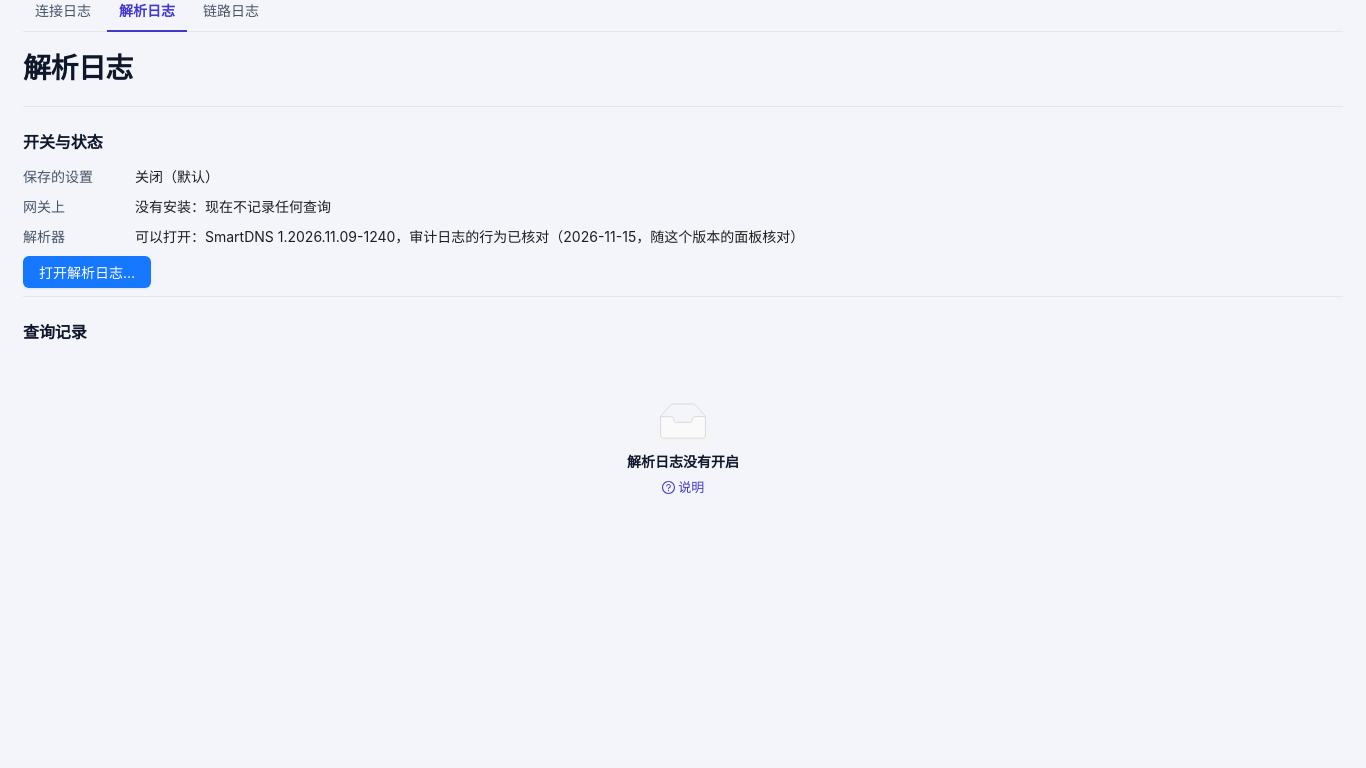
DNS query log page › not enabled: says so, reads no journal, and enabling needs the acknowledgement, then points to the deploy page
Expected: the element with test id "dns-log-empty" shows "解析日志没有开启", [627, 453, 739, 470]
Click the button "打开解析日志…": (87, 272) [23, 256, 151, 288]
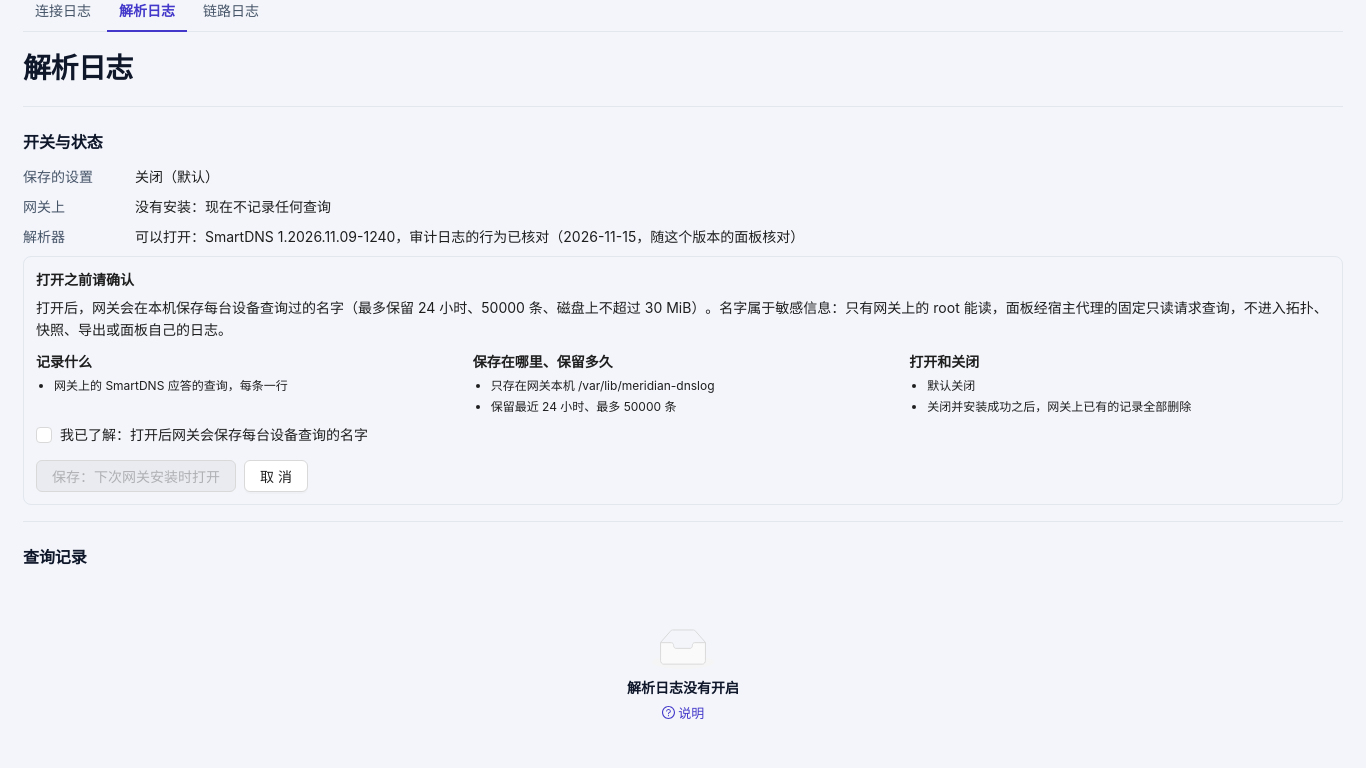
Now the element with test id "dns-log-enable-confirm" shows "网关会在本机保存每台设备查询过的名字（最多保留 24 小时、50000 条、磁盘上不超过 30 MiB）", box [23, 256, 1343, 506]
Now the element with test id "dns-log-enable-confirm" shows "只存在网关本机 /var/lib/meridian-dnslog", box [491, 378, 715, 393]
Now the element with test id "dns-log-enable-confirm" shows "关闭并安装成功之后，网关上已有的记录全部删除", box [927, 399, 1191, 414]
Click the checkbox labelled "我已了解：打开后网关会保存每台设备查询的名字": (202, 435) [36, 426, 368, 444]
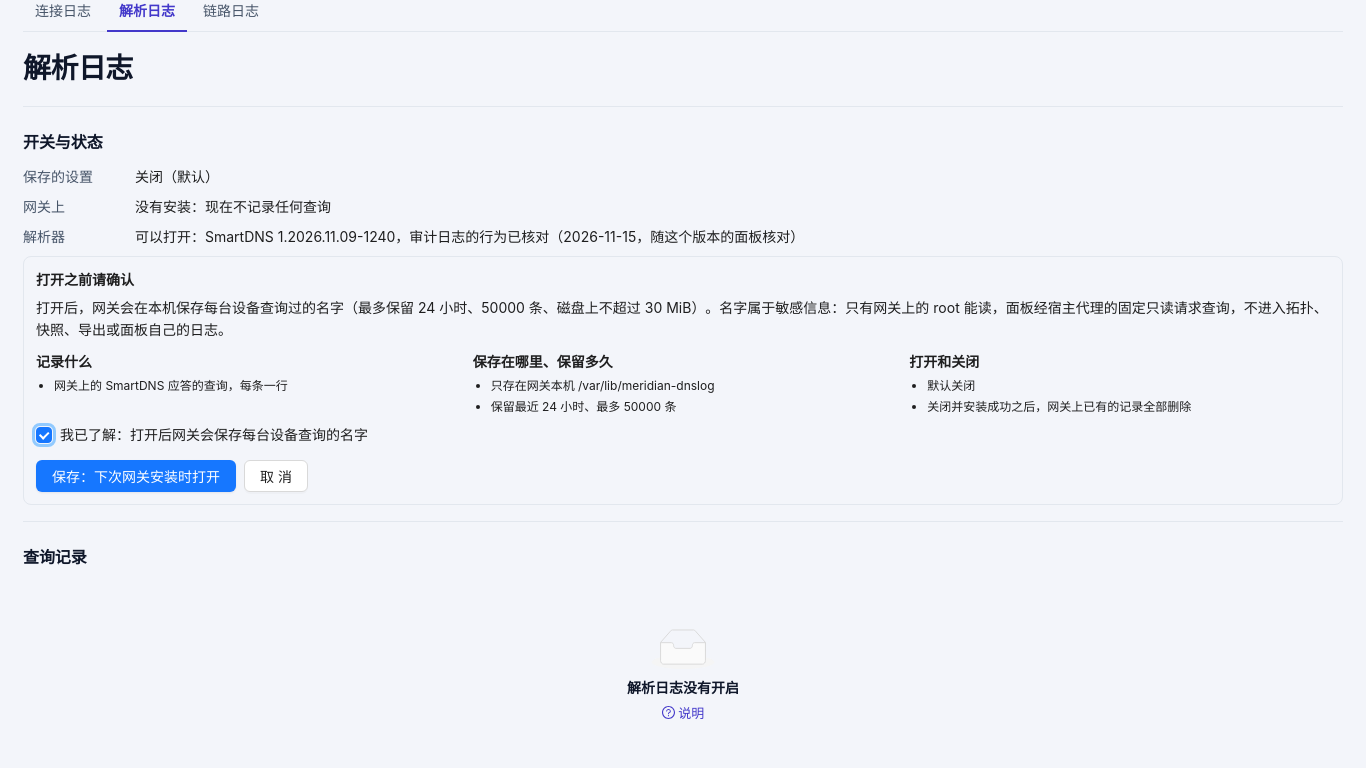
Now the button "保存：下次网关安装时打开" is enabled
Click the button "保存：下次网关安装时打开": (136, 476) [36, 460, 236, 492]
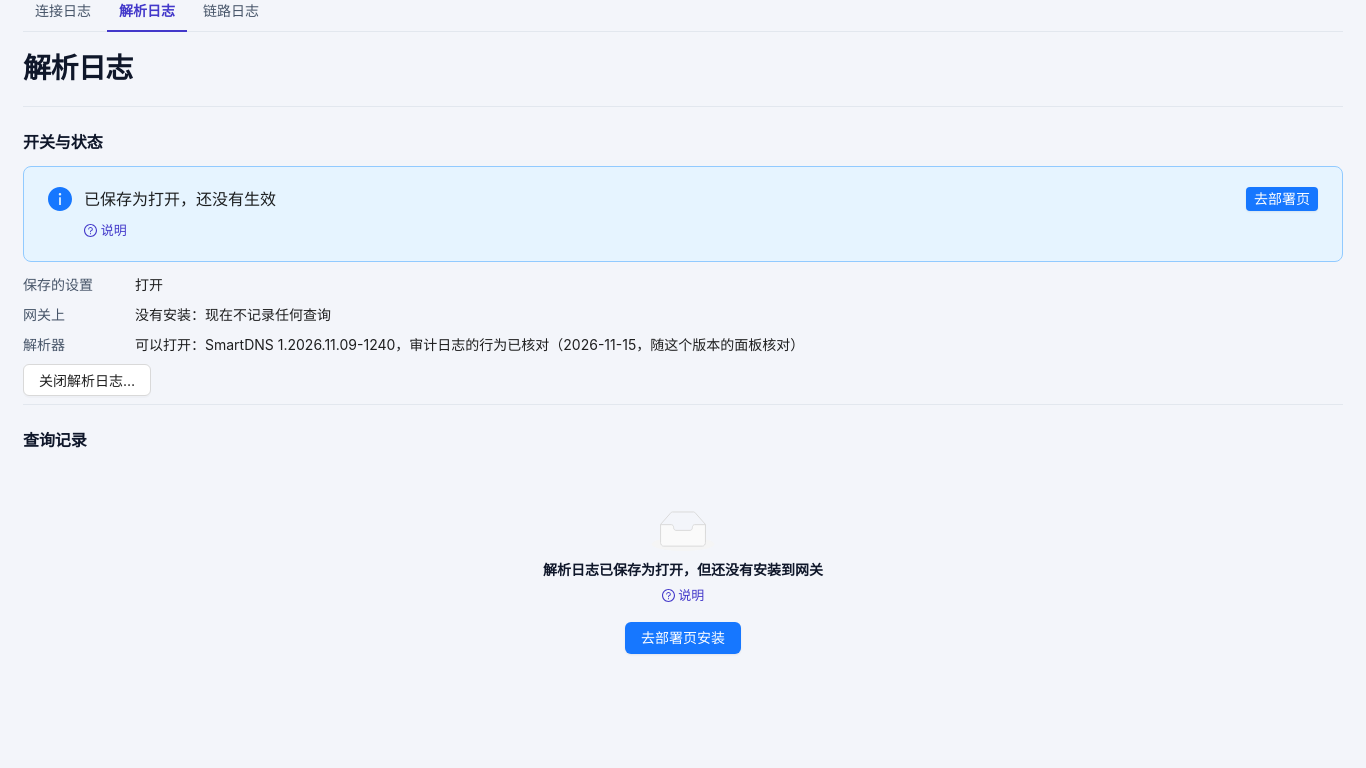
Now the message with test id "dns-log-pending" shows "已保存为打开，还没有生效", box [84, 189, 276, 209]
Now the element with test id "dns-log-enable-confirm" is gone
Now the element with test id "dns-log-empty" shows "已保存为打开，但还没有安装到网关", box [543, 561, 823, 578]
Note: It can be taken back before any install: nothing on the gateway changes.
Click the button "关闭解析日志…": (87, 380) [23, 364, 151, 396]
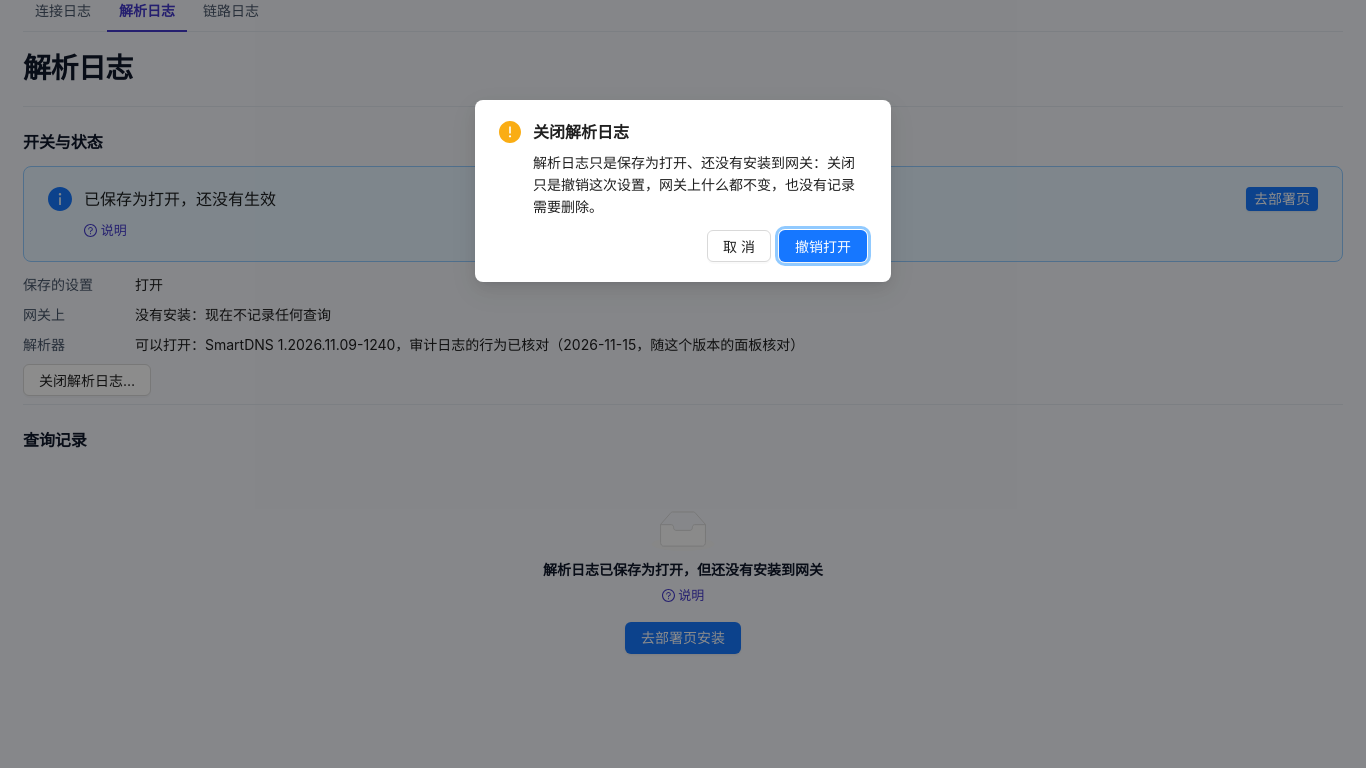
Now the text with test id "dns-log-disable-confirm" shows "只是撤销这次设置，网关上什么都不变", box [533, 154, 855, 215]
